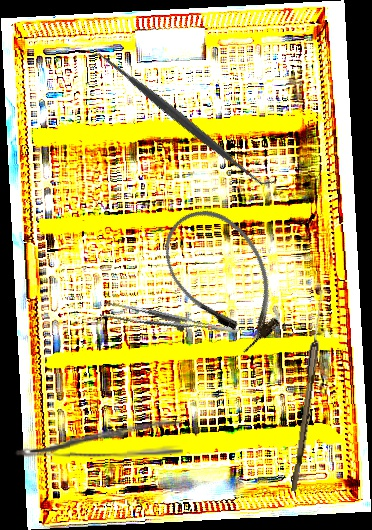Cannula: (146, 191, 302, 365)
Dressing Forceps: (13, 419, 184, 460)
Spatula Surgical: (86, 38, 278, 201)
Surgical Spoon: (291, 289, 326, 493)
Tissue Forceps: (100, 289, 239, 356)
